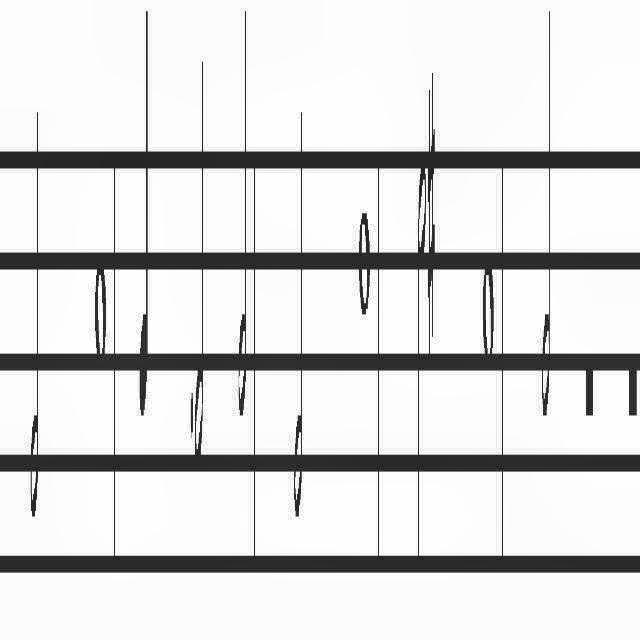Diez: (427, 54, 435, 368)
Full-note: (482, 250, 494, 382), (358, 200, 370, 332), (94, 252, 106, 380)
Half-note: (540, 0, 552, 444), (30, 86, 40, 536), (195, 50, 205, 486), (417, 143, 427, 575), (238, 5, 248, 422), (294, 83, 302, 530)
Quarter-note: (138, 19, 150, 428)
